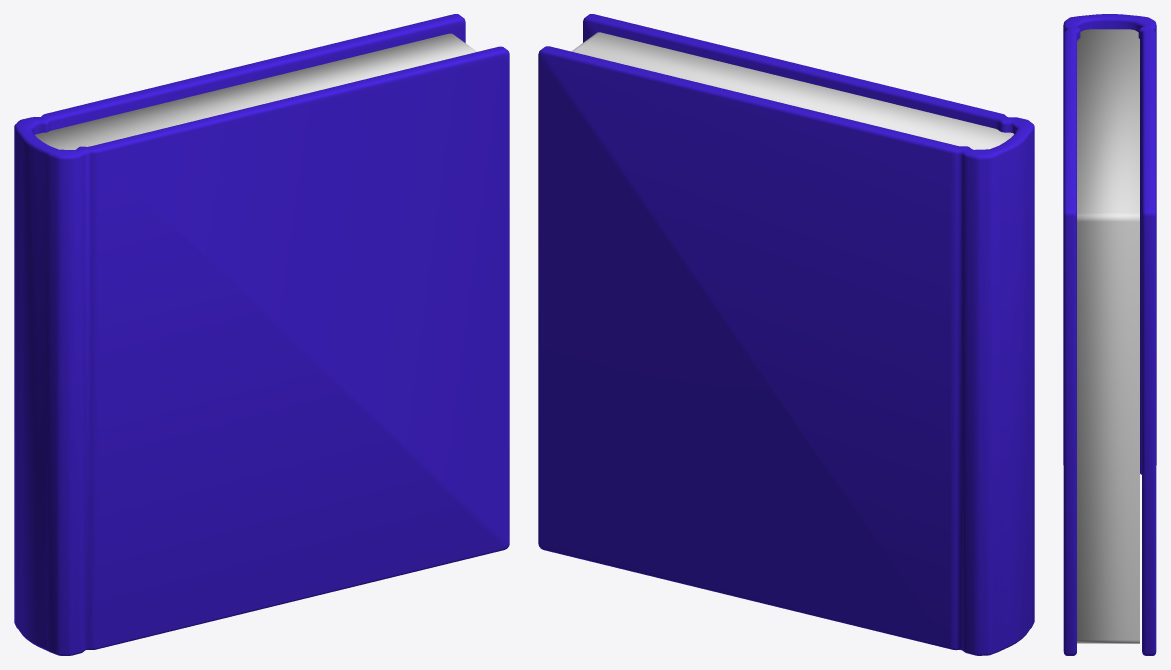
Rendered from book_navy.fbx.
3 renders of one model, left to right at view 1: azimuth 30°, elevation 25°; view 2: azimuth 150°, elevation 25°; view 3: azimuth 270°, elevation 25°, orthographic. The views are drawn at different scales.
Visible parts, largest first — view 1: Cube.020; view 2: Cube.020; view 3: Cube.020.
Boxes of the visible parts, box(x1,y1,x2,y2) form: Cube.020: box(14, 14, 509, 655); Cube.020: box(538, 14, 1034, 655); Cube.020: box(1063, 14, 1156, 655).
Size of the model in its own units: 313 by 327 by 61.89.
